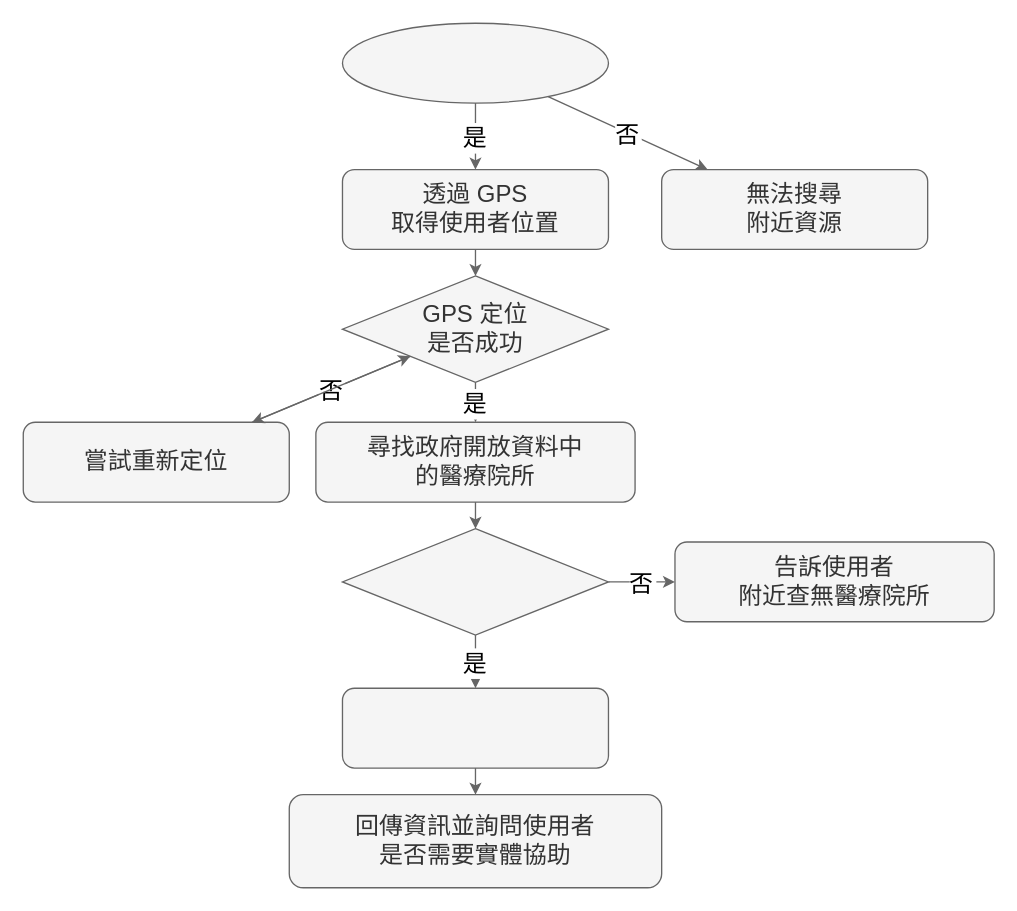
Some shapes in this 1017 by 911 pixel diagram are drawn without their labels. Here are the shapes that lost their labels. From the top down, the box of each, then its label:
(341, 22, 608, 103): 詢問使用者 是否開啟 GPS
(341, 527, 608, 635): 是否有合法的資料
(341, 687, 608, 768): 計算距離 並排序
